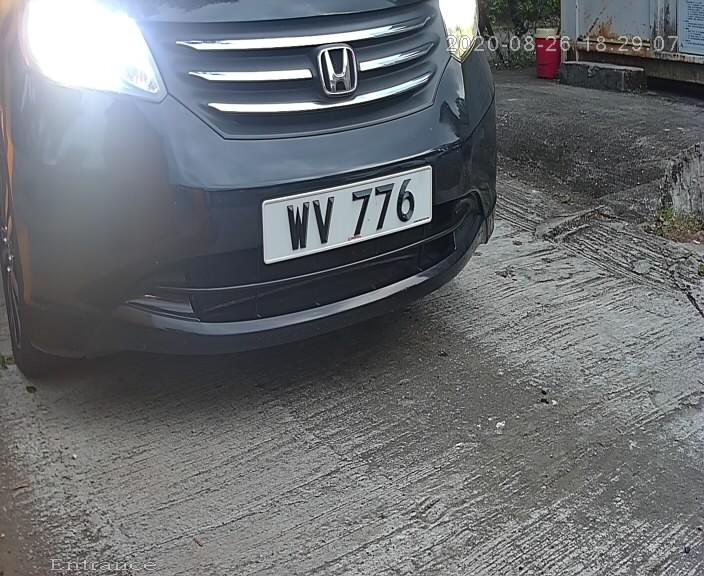License Plate: (247, 152, 454, 276)
